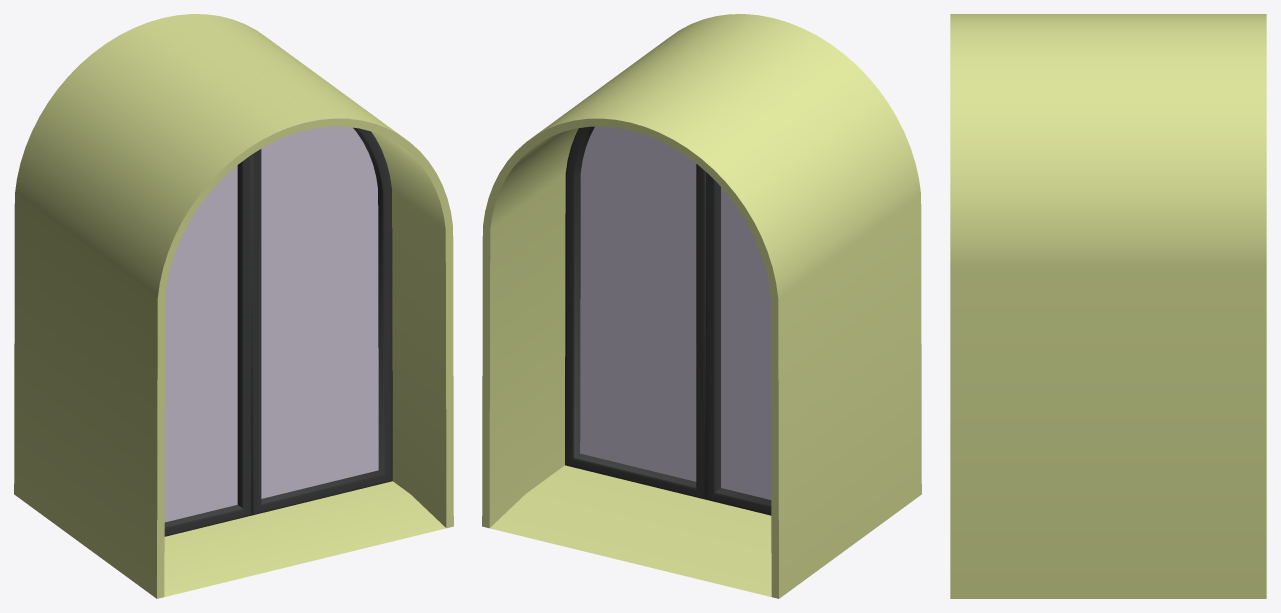
The model's file is DoorMarco.fbx.
The picture shows the model from 3 angles, left to right: view 1: azimuth 30°, elevation 25°; view 2: azimuth 150°, elevation 25°; view 3: azimuth 270°, elevation 25°; orthographic projection. The views are drawn at different scales.
Parts seen in each view (by area): view 1: Marco General, VentanaDer, VentanaIzq; view 2: Marco General, VentanaDer, VentanaIzq; view 3: Marco General.
Boxes of the visible parts, bbox=[...] form: Marco General: bbox=[14, 14, 453, 598]; VentanaDer: bbox=[251, 126, 392, 515]; VentanaIzq: bbox=[164, 155, 251, 536]; Marco General: bbox=[482, 14, 921, 598]; VentanaDer: bbox=[565, 126, 705, 499]; VentanaIzq: bbox=[706, 172, 771, 515]; Marco General: bbox=[950, 14, 1266, 598].
Bounding box in the file's own units: 240 × 340 × 200.
